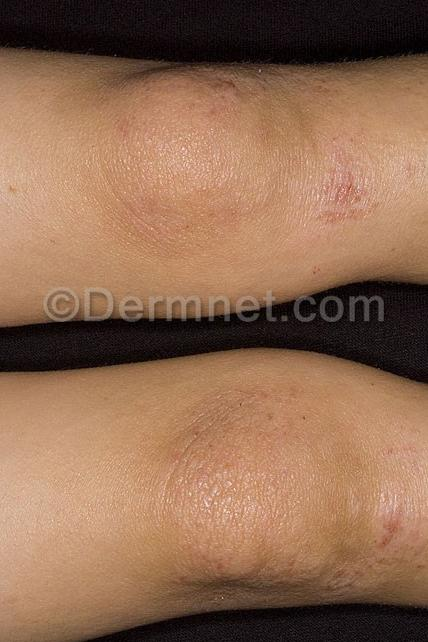excoriacion 1: (338, 483, 428, 601), (325, 151, 387, 225)
exudacion 1: (325, 181, 371, 216), (375, 509, 403, 557)
